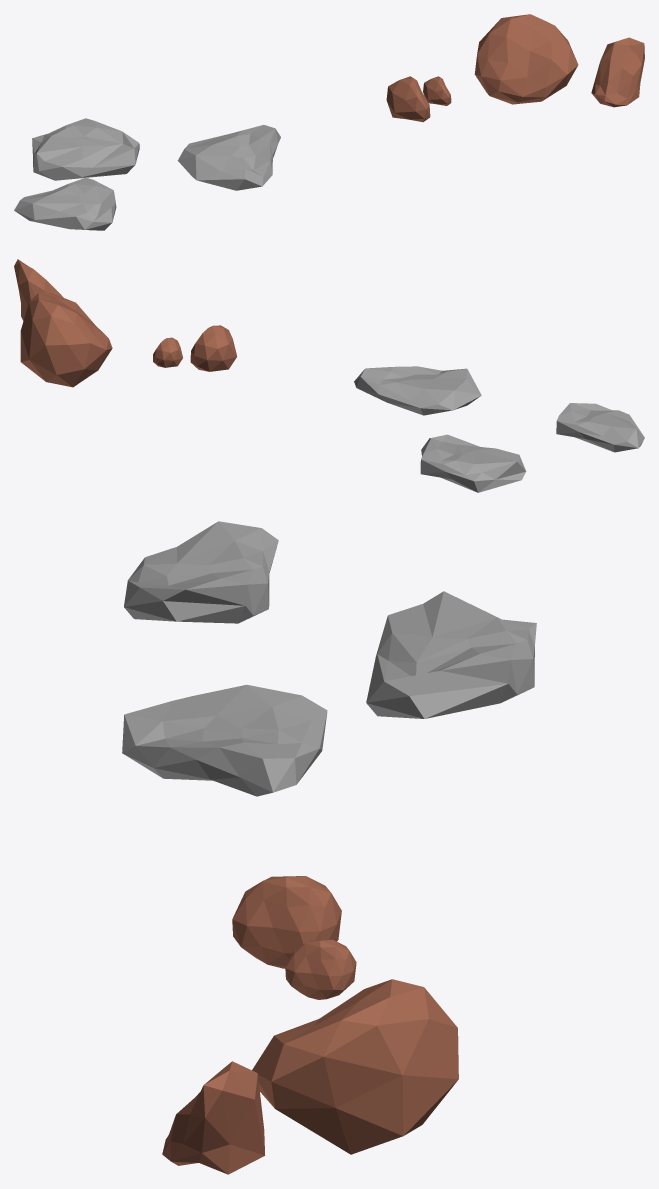
The model's file is LD_Rock_n_Dirt.fbx.
3 renders of one model, top to bottom at view 1: azimuth 30°, elevation 25°; view 2: azimuth 150°, elevation 25°; view 3: azimuth 270°, elevation 25°, orthographic. The views are drawn at different scales.
Visible parts, largest first — view 1: Dirt1, Flatrock2, Flatrock1, flatrock3, Dirt2, Dirt3, Dirt4; view 2: Dirt1, Flatrock1, Flatrock2, flatrock3, Dirt3, Dirt2, Dirt4; view 3: Dirt1, Flatrock1, Flatrock2, flatrock3, Dirt2, Dirt3, Dirt4.
Part boxes in pixels (x1,y1,x2,y2): Dirt1: (474,14,578,104); Flatrock2: (32,118,139,180); Flatrock1: (177,125,280,190); flatrock3: (14,177,116,230); Dirt2: (591,37,644,107); Dirt3: (386,76,430,122); Dirt4: (423,76,451,105); Dirt1: (20,292,112,387); Flatrock1: (354,366,481,415); Flatrock2: (420,434,526,492); flatrock3: (556,403,644,452); Dirt3: (190,325,237,371); Dirt2: (14,259,63,320); Dirt4: (153,337,182,367); Dirt1: (252,979,458,1154); Flatrock1: (122,684,327,796); Flatrock2: (366,591,536,718); flatrock3: (124,521,278,623); Dirt2: (162,1061,264,1174); Dirt3: (232,876,341,968); Dirt4: (285,939,356,999).
Size of the model in its own units: 309 by 37.49 by 89.62.
